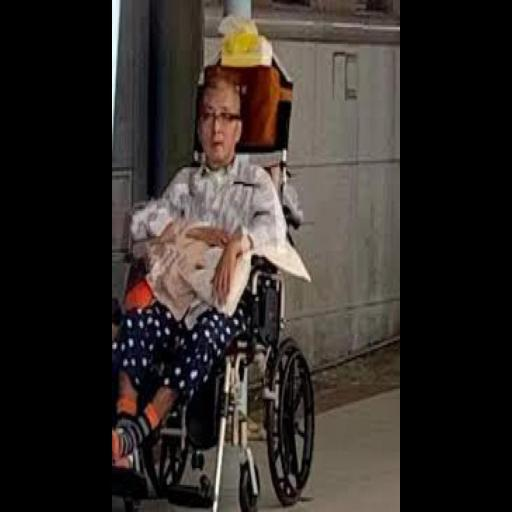cadeira_de_rodas: (112, 49, 334, 511)
